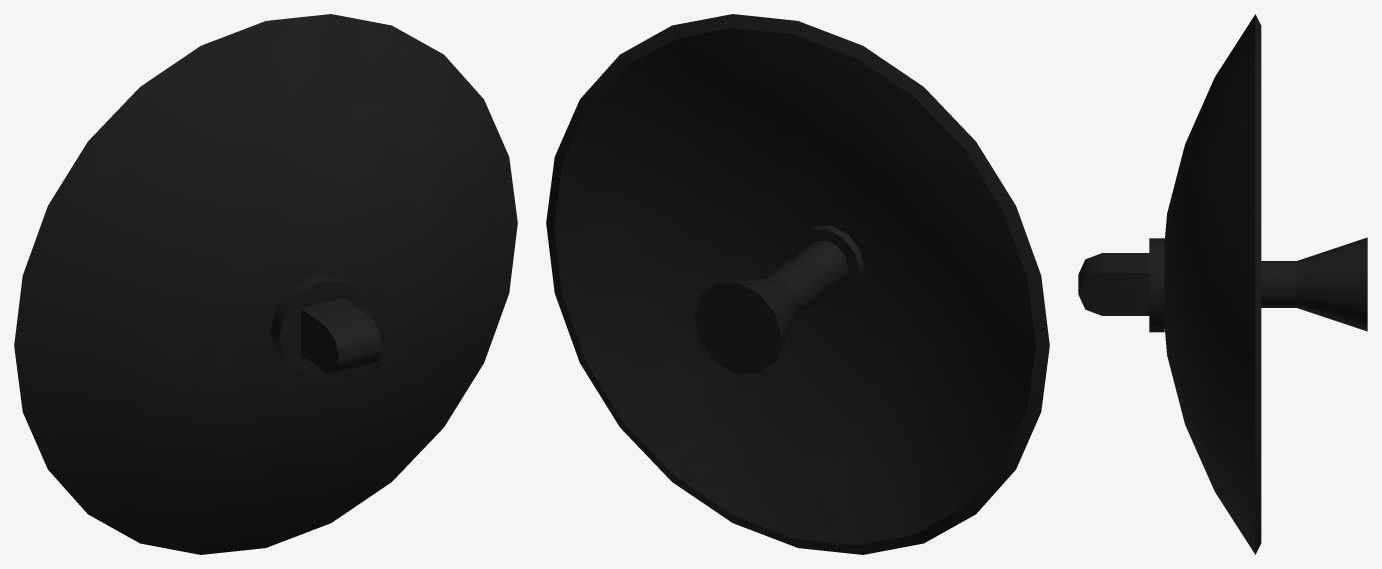
Rendered from 1f_antenna_s0_1.obj.
3 views of the same model, side by side, from view 1: azimuth 30°, elevation 25°; view 2: azimuth 150°, elevation 25°; view 3: azimuth 270°, elevation 25° (orthographic). The views are drawn at different scales.
Visible parts, largest first — view 1: mesh1; view 2: mesh1; view 3: mesh1.
Part boxes in pixels (bbox=[...]): mesh1: bbox=[14, 14, 517, 554]; mesh1: bbox=[546, 14, 1049, 554]; mesh1: bbox=[1078, 14, 1367, 554].
Bounding box in the file's own units: 0.575 × 0.575 × 0.3063.
